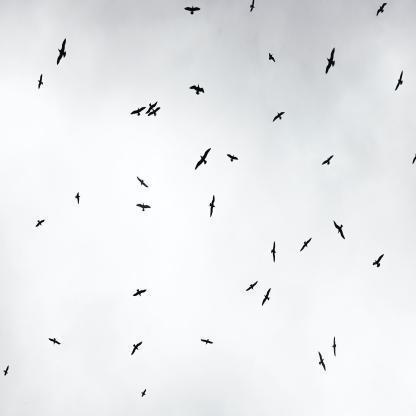bird: (195, 148, 211, 170), (57, 38, 66, 66), (333, 221, 346, 240), (326, 48, 335, 73), (394, 70, 403, 92), (189, 84, 205, 95), (262, 287, 271, 306), (300, 238, 312, 252), (318, 352, 327, 370), (270, 240, 277, 263), (130, 106, 146, 116), (376, 3, 388, 16), (131, 341, 142, 355), (209, 194, 215, 218), (183, 6, 201, 14), (373, 254, 384, 267), (146, 101, 157, 114), (136, 203, 151, 212), (136, 176, 148, 187), (321, 155, 334, 165), (331, 336, 337, 357), (132, 288, 146, 297), (246, 281, 258, 291), (273, 112, 285, 122), (148, 107, 160, 117), (227, 153, 239, 162), (38, 73, 44, 88), (201, 339, 213, 345), (49, 338, 61, 344), (35, 219, 44, 227), (74, 192, 80, 204), (3, 365, 9, 376), (250, 0, 256, 11), (269, 52, 275, 62), (141, 388, 146, 397), (413, 154, 416, 164)
